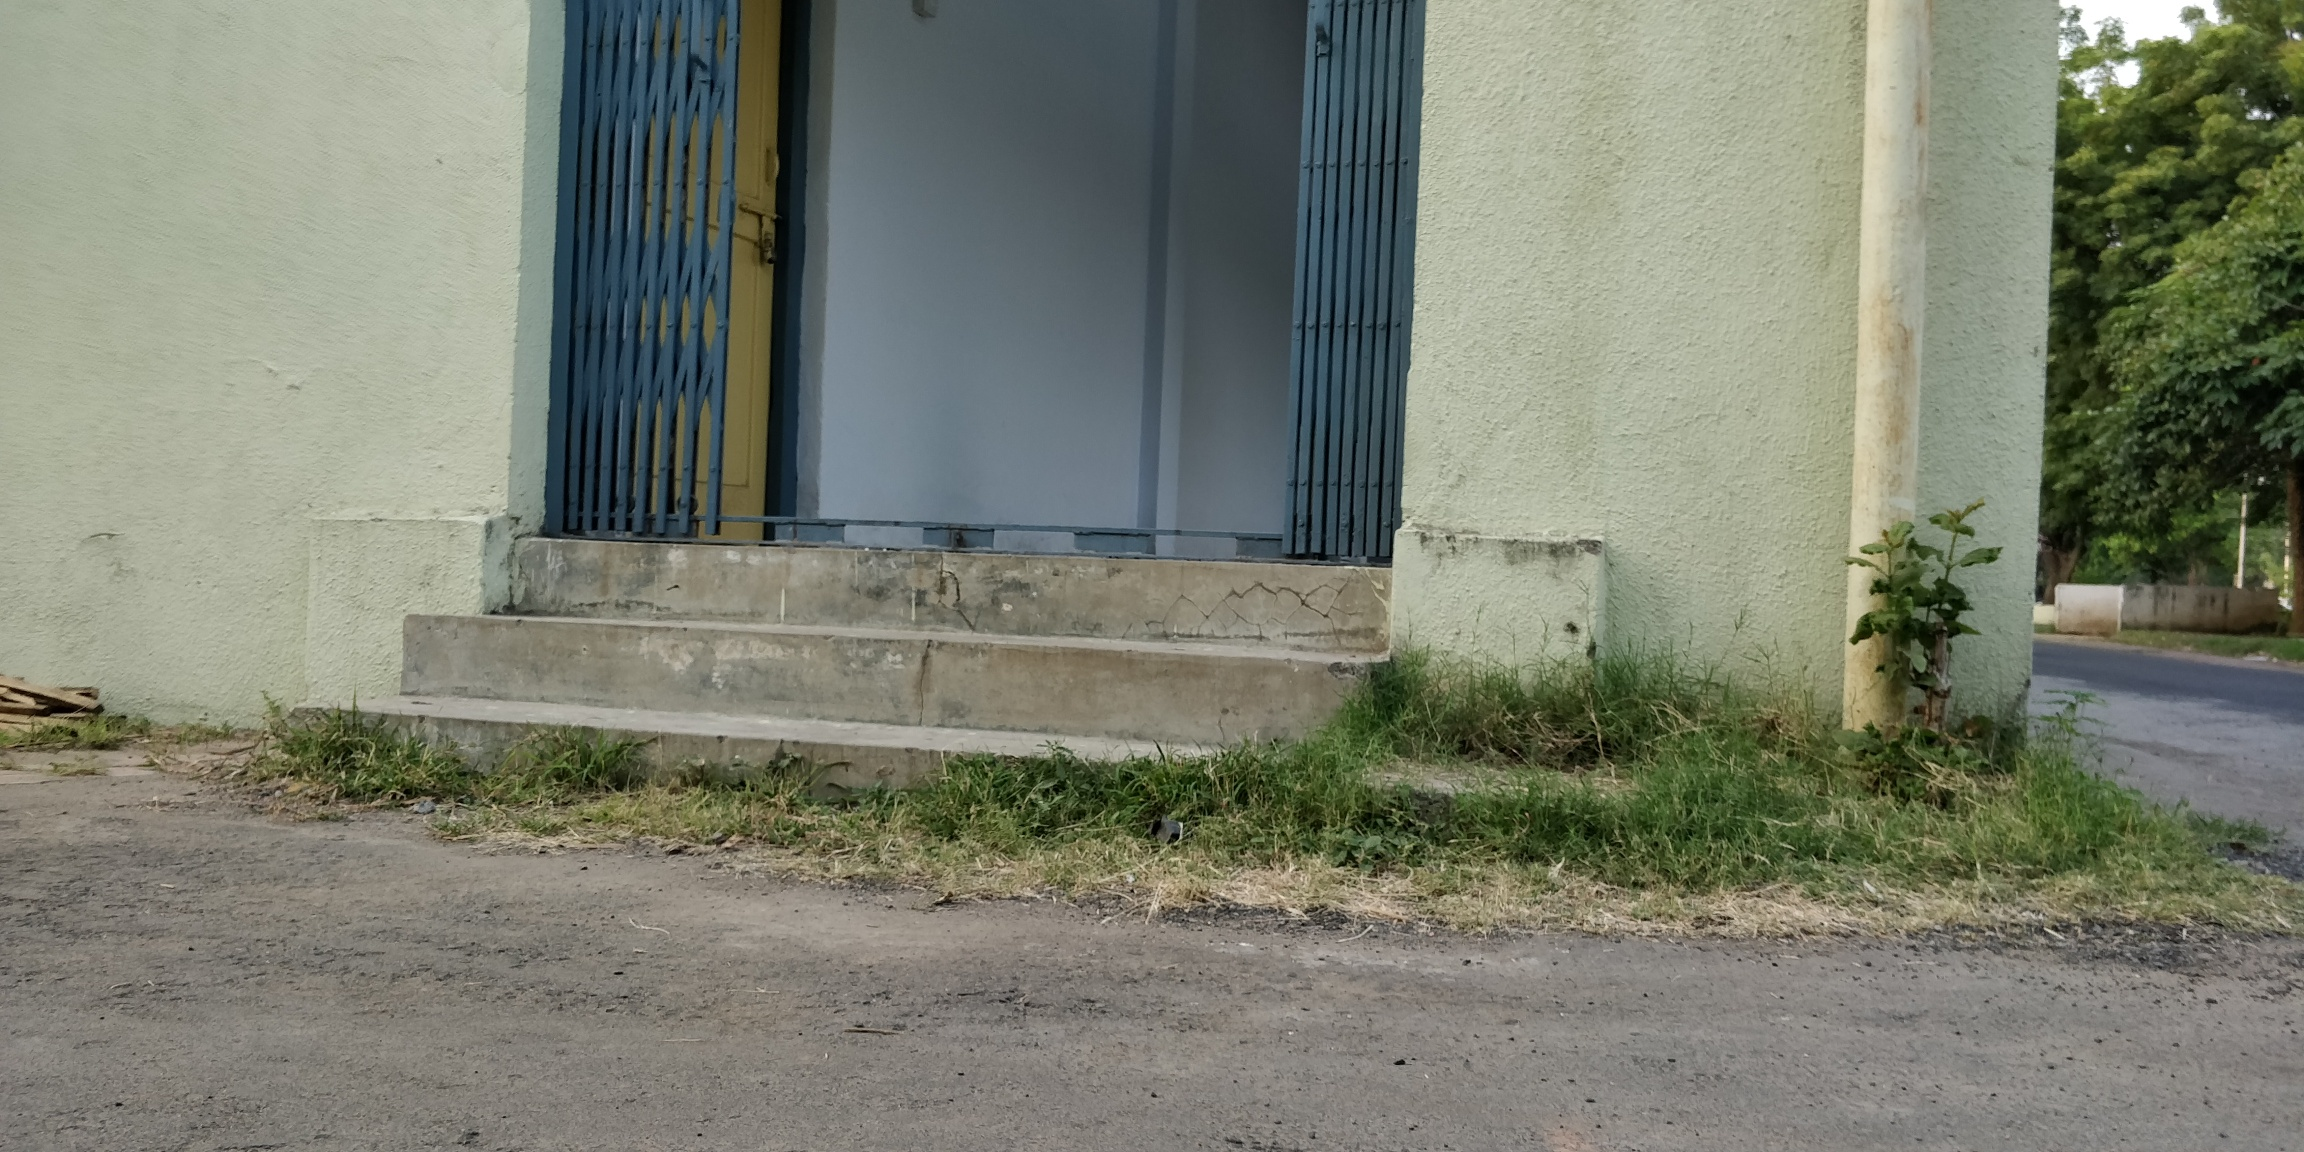stairs_up: (342, 550, 1392, 793)
